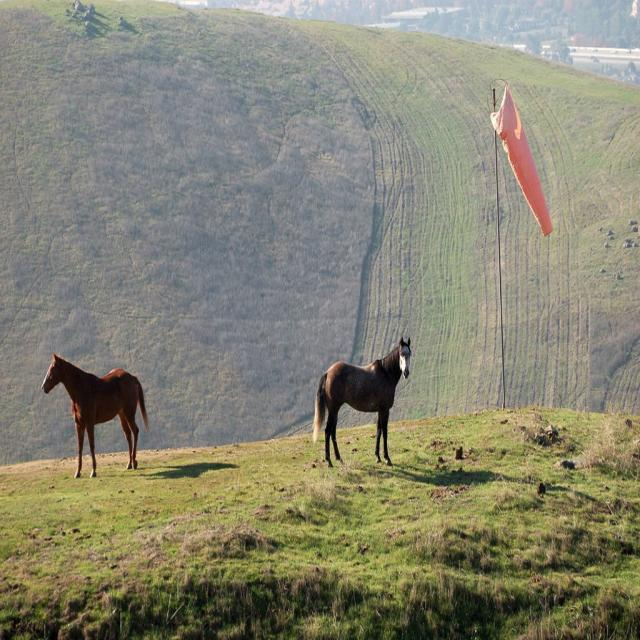Horse: (39, 353, 151, 482), (310, 335, 413, 468)
